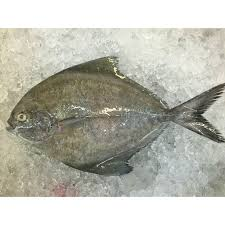Ikan Bawal: (6, 57, 225, 180)
